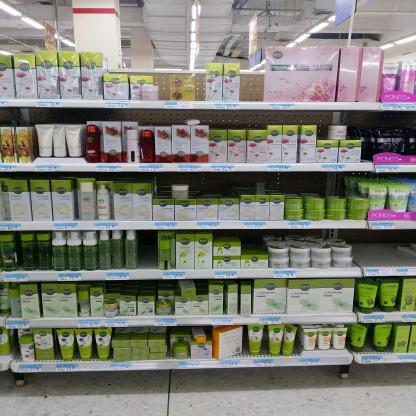Void: (242, 172, 340, 194), (356, 232, 414, 264), (190, 175, 235, 196), (242, 62, 264, 100), (138, 232, 158, 269), (240, 229, 265, 254), (158, 63, 171, 101), (107, 281, 156, 291), (115, 329, 164, 339), (151, 174, 172, 197), (195, 62, 207, 100), (317, 112, 328, 140), (349, 113, 359, 140)
